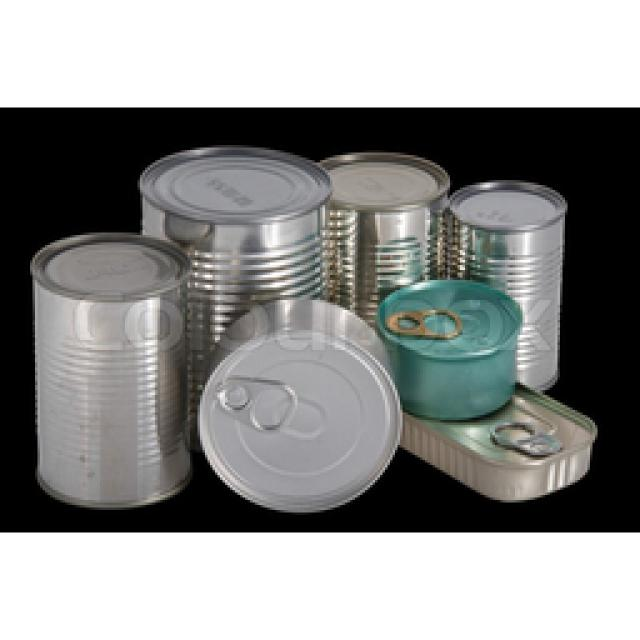alumunium: (30, 148, 592, 510)
